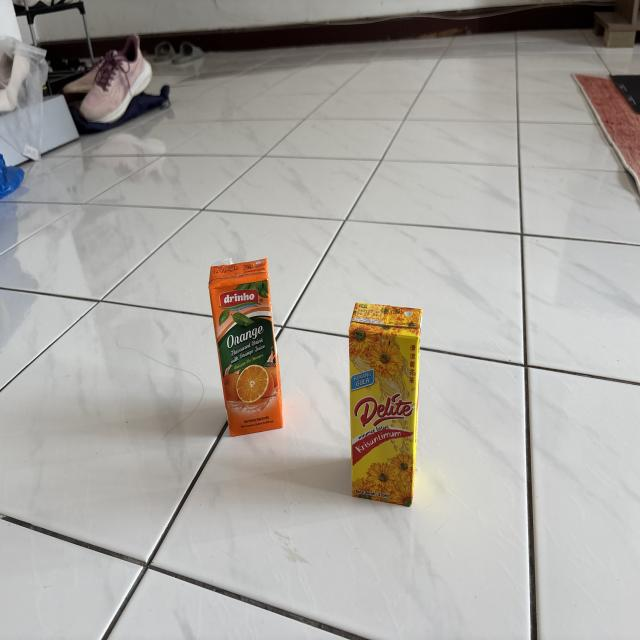drink_carton: (341, 289, 431, 515), (201, 253, 294, 445)
